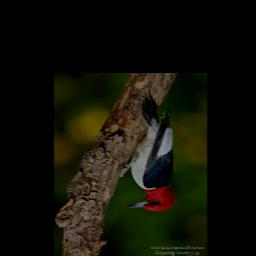Woodpecker: (115, 87, 179, 211)
